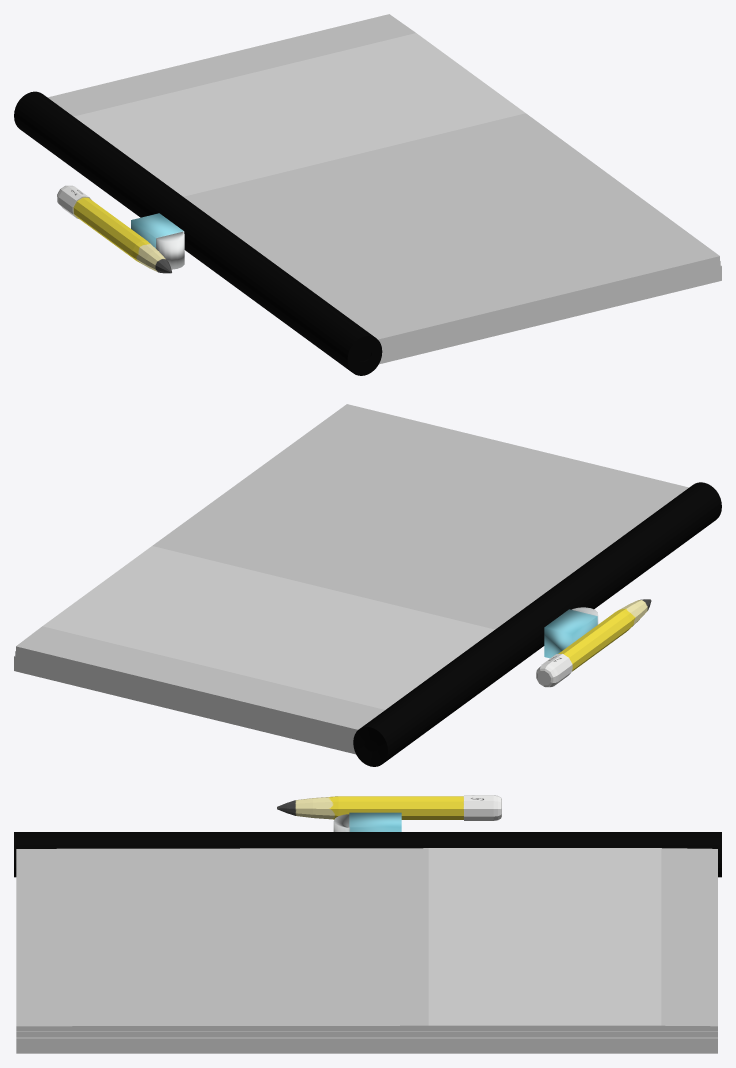
The model's file is ATK set.fbx.
3 renders of one model, top to bottom at view 1: azimuth 30°, elevation 25°; view 2: azimuth 150°, elevation 25°; view 3: azimuth 270°, elevation 25°, orthographic. The views are drawn at different scales.
Visible parts, largest first — view 1: ATK buku, ATK pensil, ATK penhapus; view 2: ATK buku, ATK pensil, ATK penhapus; view 3: ATK buku, ATK pensil, ATK penhapus.
Boxes of the visible parts, left/top/right/bottom form: ATK buku: left=14, top=14, right=721, bottom=375; ATK pensil: left=57, top=185, right=171, bottom=273; ATK penhapus: left=131, top=213, right=184, bottom=269; ATK buku: left=14, top=404, right=721, bottom=766; ATK pensil: left=536, top=599, right=651, bottom=687; ATK penhapus: left=544, top=607, right=598, bottom=658; ATK buku: left=14, top=832, right=721, bottom=1053; ATK pensil: left=277, top=795, right=501, bottom=820; ATK penhapus: left=333, top=812, right=401, bottom=831.
Bounding box in the file's own units: 520 × 46.23 × 686.
